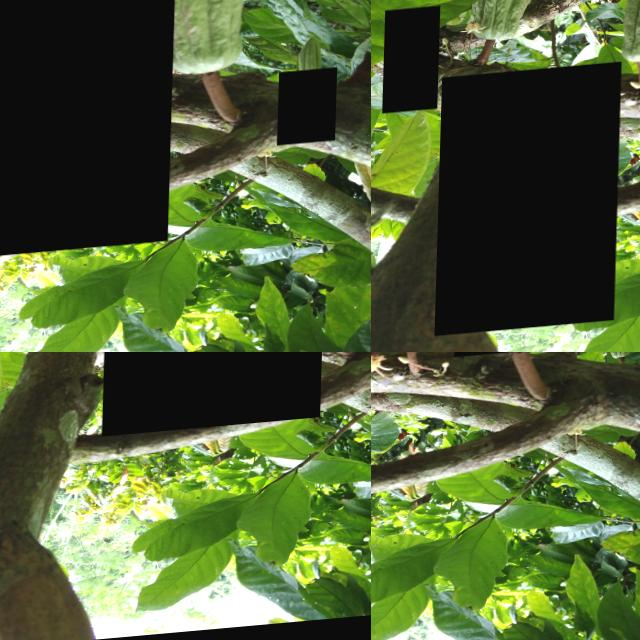Sana: (438, 68, 623, 339), (0, 0, 178, 264), (104, 352, 330, 441), (384, 9, 442, 115), (280, 79, 339, 155), (608, 352, 634, 366)
